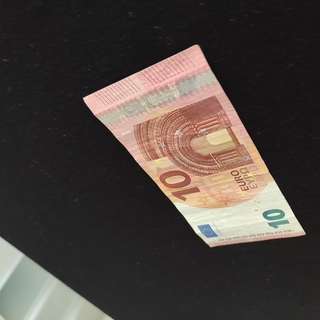10EUROFront: (82, 43, 307, 247)
